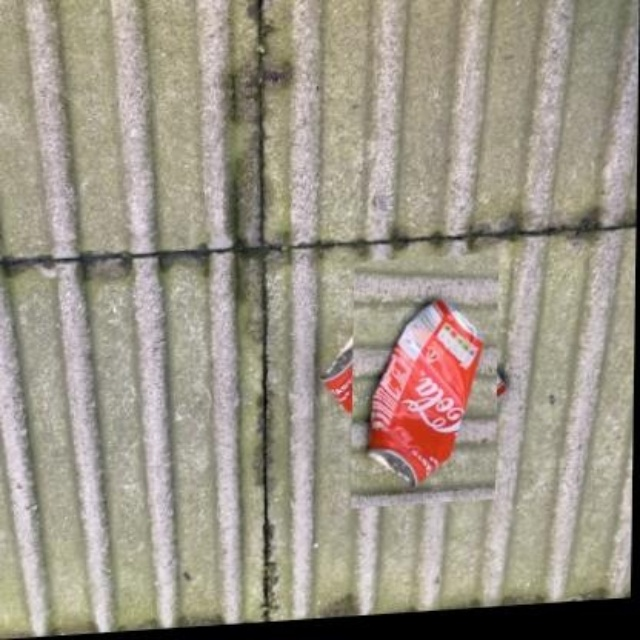trash: (369, 300, 482, 485)
